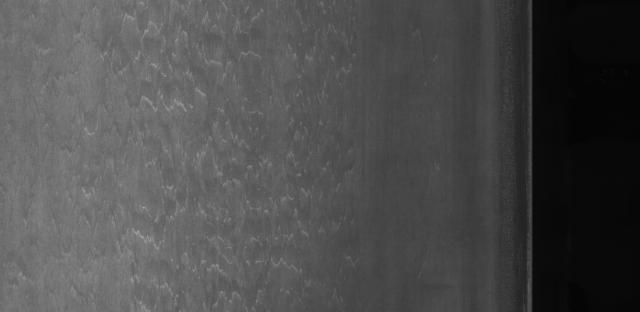silk_spot: (82, 5, 378, 120), (103, 129, 369, 230), (124, 239, 334, 306)
